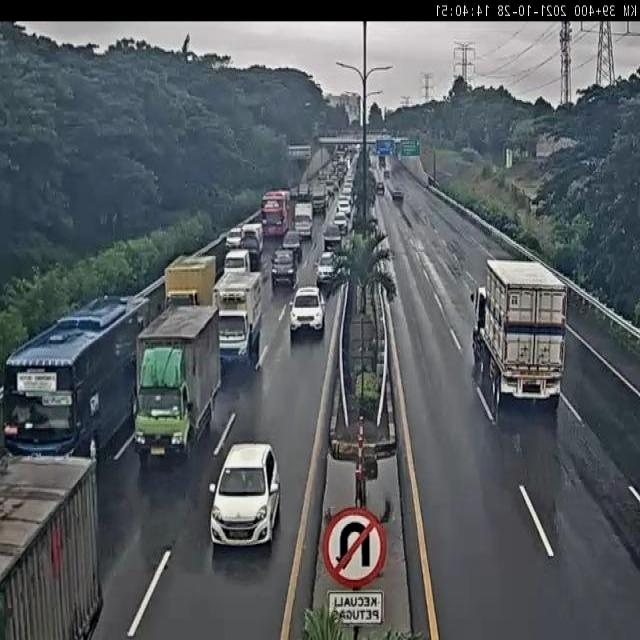Bus: (0, 291, 151, 465), (261, 189, 291, 237)
Car: (210, 441, 282, 546), (288, 285, 325, 338), (271, 250, 297, 290), (316, 251, 340, 289), (282, 230, 302, 264), (322, 224, 342, 253), (333, 210, 348, 234)
Truck: (0, 449, 101, 640), (471, 258, 566, 417), (135, 304, 222, 464), (213, 266, 265, 370), (161, 257, 218, 315), (293, 202, 313, 241), (311, 186, 327, 213)
